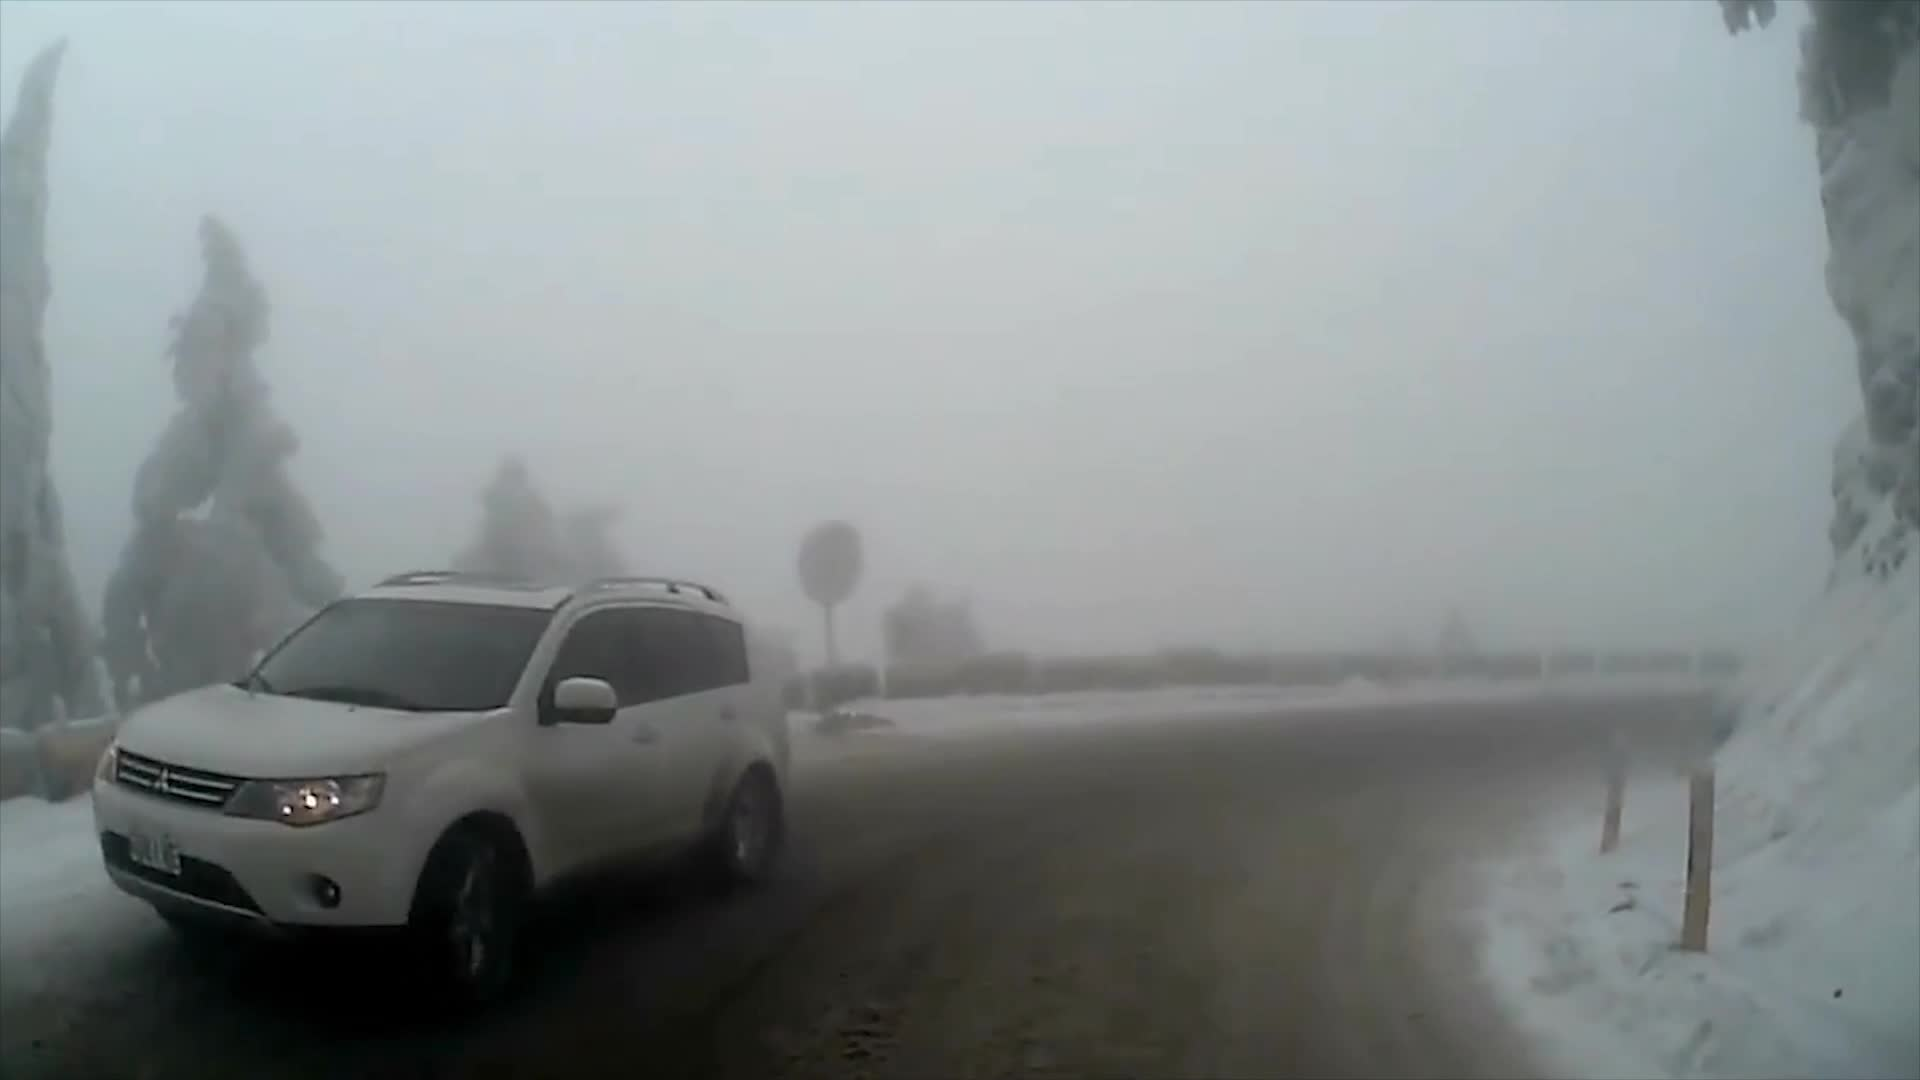vehicle: (87, 568, 789, 989)
